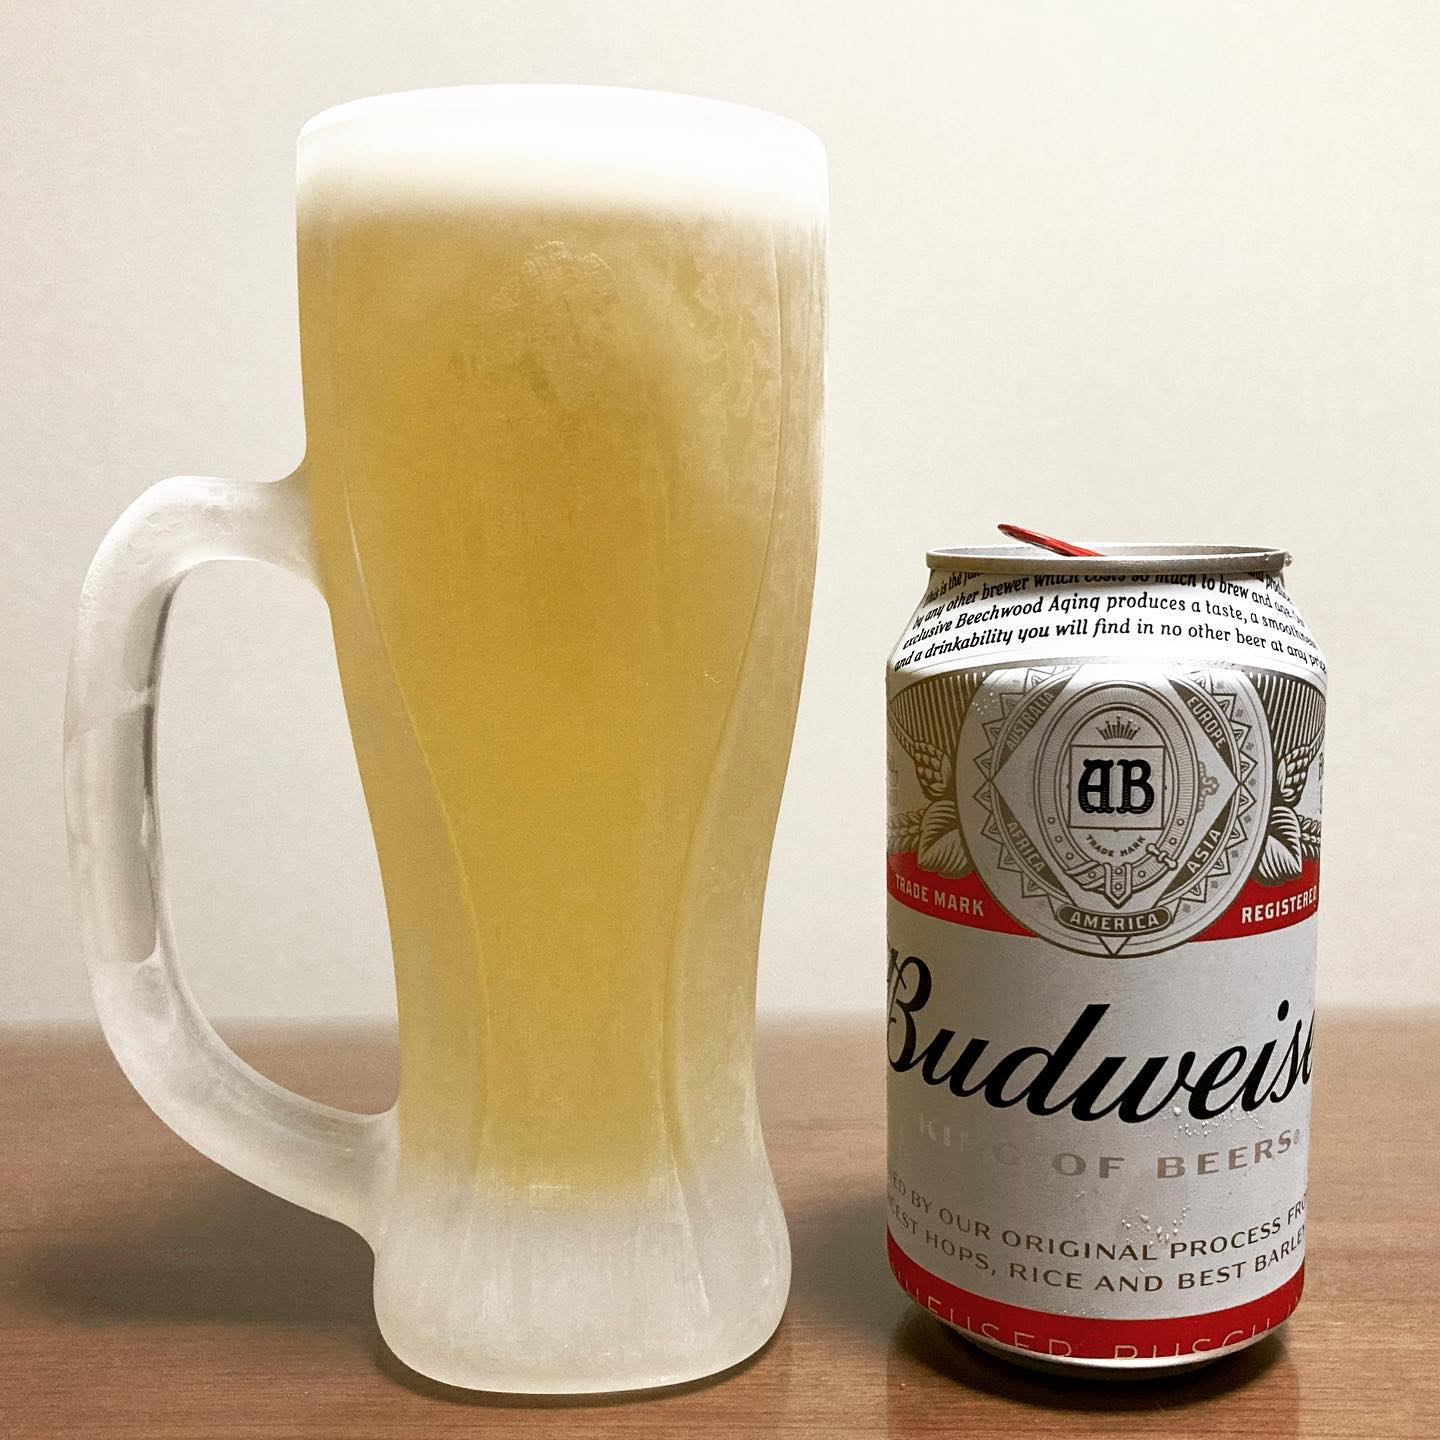alcohol: (285, 73, 836, 1408), (880, 516, 1331, 1403)
